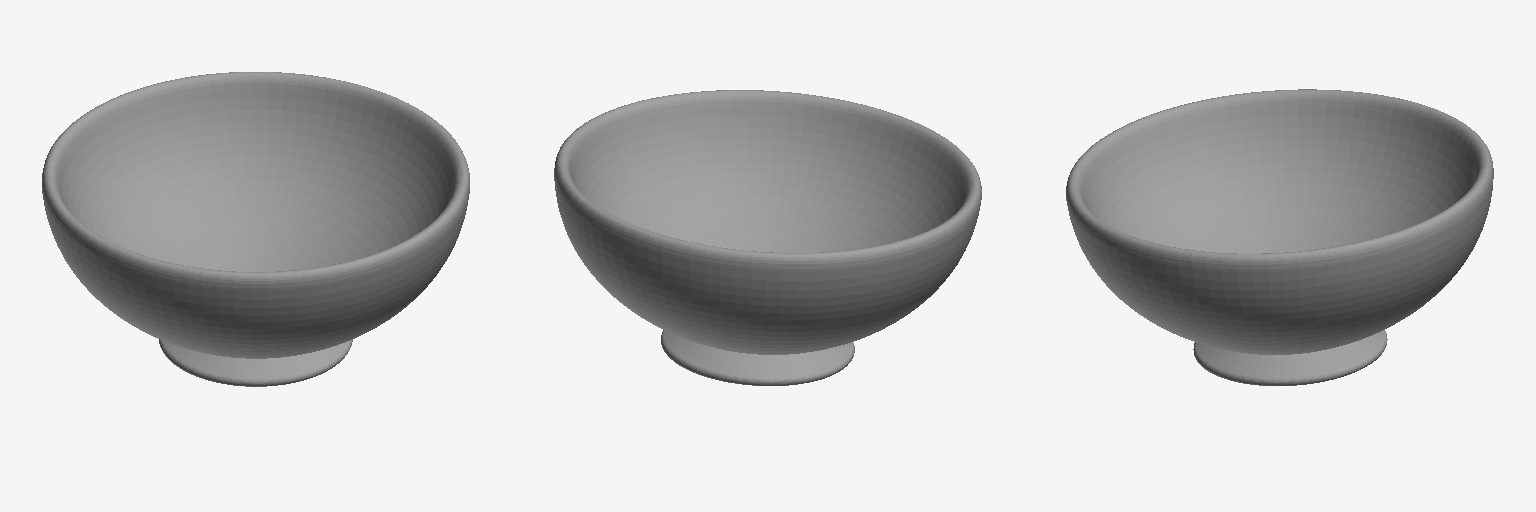
The model's file is fire_bowl.obj.
3 views of the same model, side by side, from view 1: azimuth 30°, elevation 25°; view 2: azimuth 150°, elevation 25°; view 3: azimuth 270°, elevation 25° (orthographic).
Visible parts, largest first — view 1: Part1; view 2: Part1; view 3: Part1.
Part boxes in pixels (left/top/right/bottom): Part1: left=42, top=72, right=469, bottom=386; Part1: left=554, top=90, right=981, bottom=385; Part1: left=1066, top=89, right=1493, bottom=385.
Bounding box in the file's own units: 1.66 × 0.8245 × 1.65.